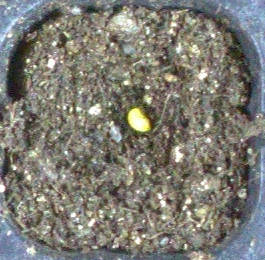pepper seed: (51, 41, 203, 174)
